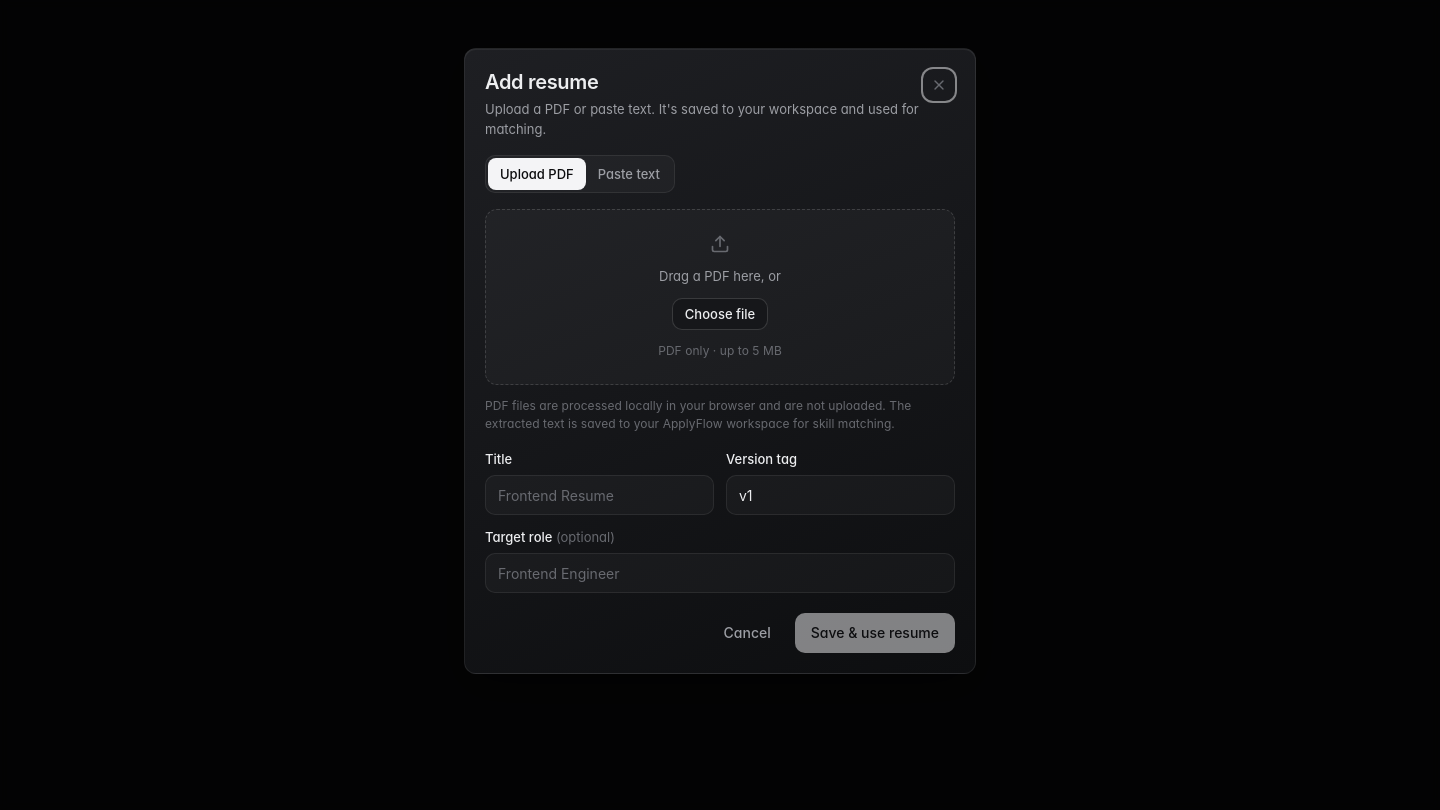
Test case: AddResumeDialog › switches between upload and paste modes
This screenshot has width=1440, height=810.
Expected: the button "Choose file" is shown, top-left (672, 298), bottom-right (768, 330)
What coordinates should you click on to do the following:
click the button "Paste text"
I would click on:
 (629, 174)
Its box is top-left (586, 158), bottom-right (672, 190).
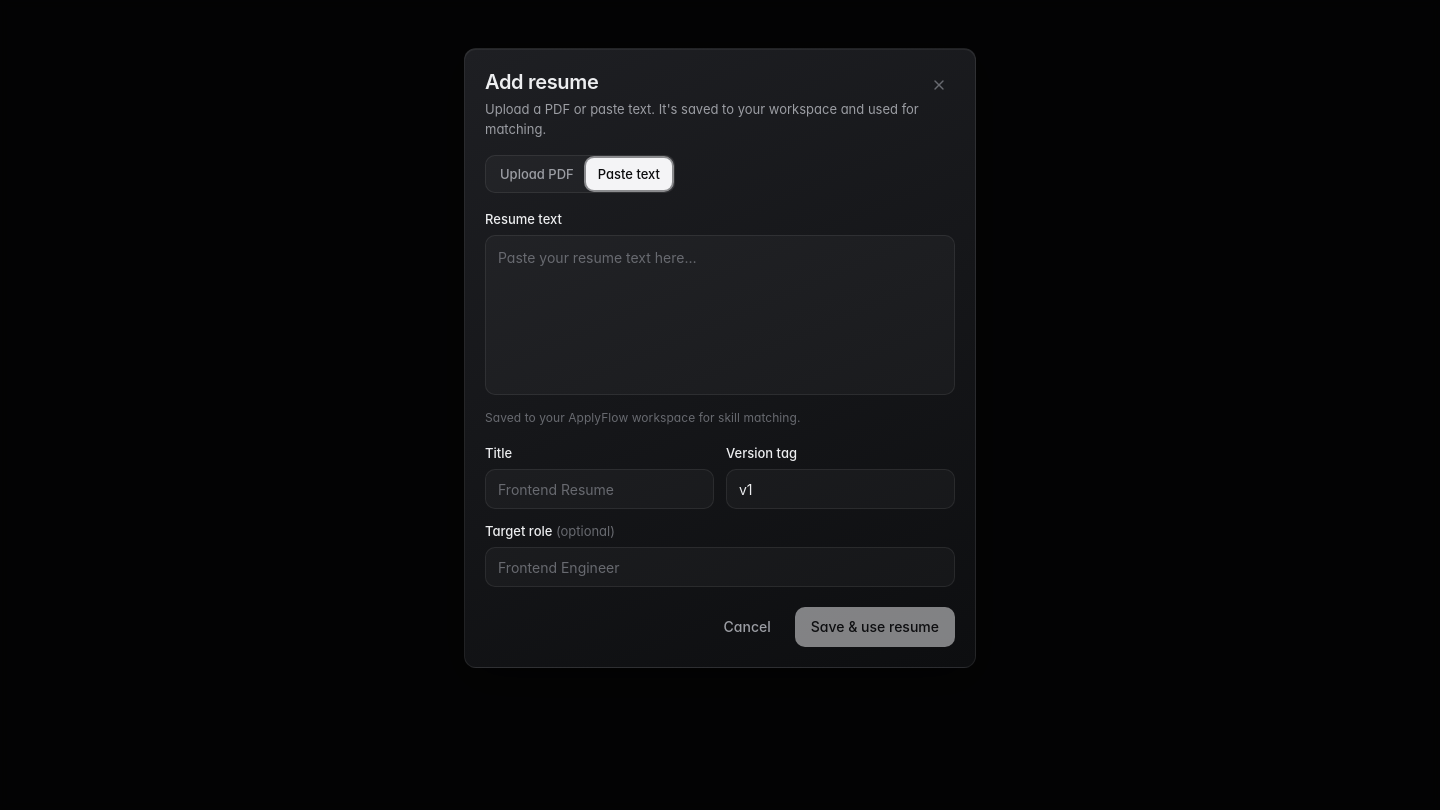
Expected: the text box labelled "Resume text" is shown, top-left (485, 235), bottom-right (955, 395)
What coordinates should you click on to do the following:
click the button "Upload PDF"
I would click on:
 (537, 174)
Its box is top-left (488, 158), bottom-right (586, 190).
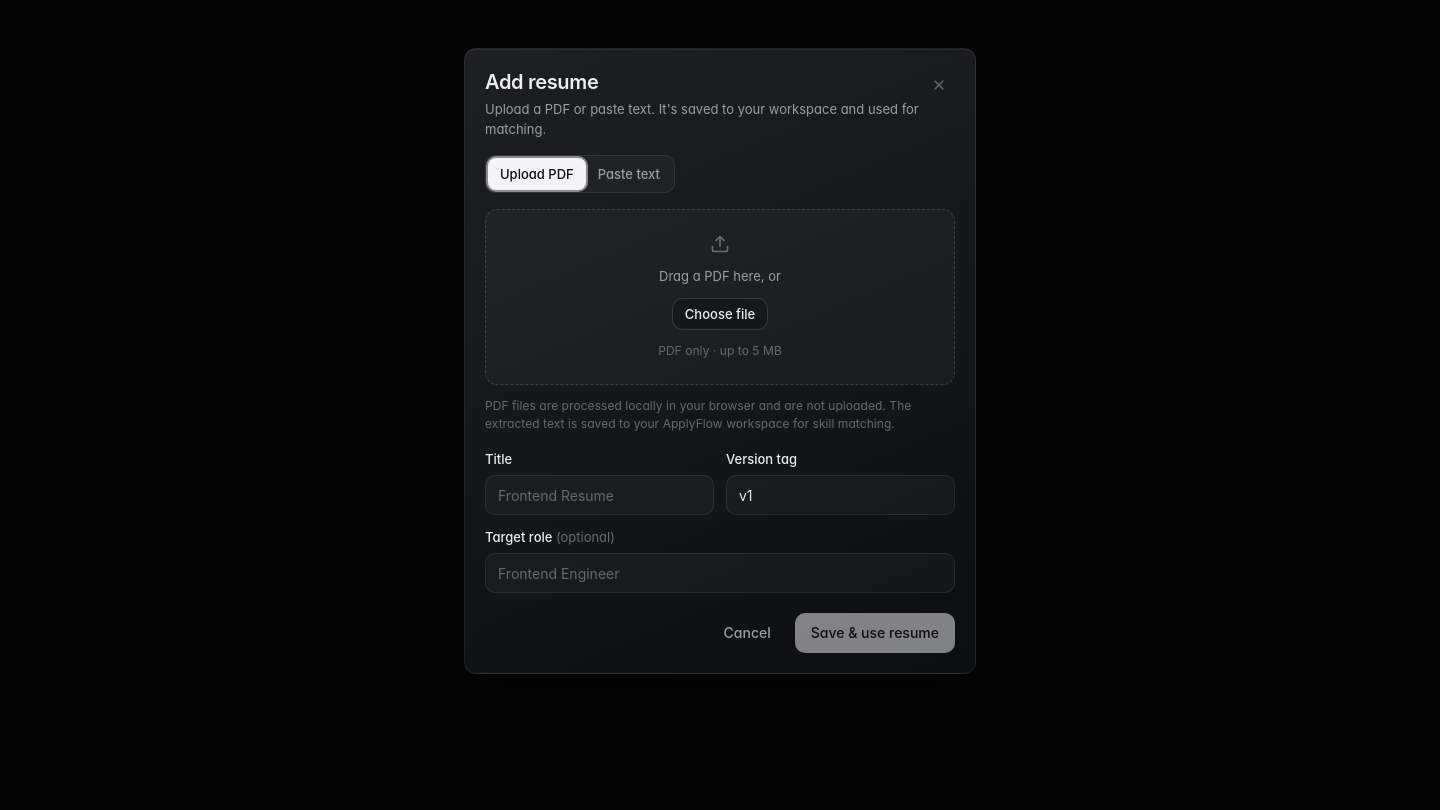
Expected: the button "Choose file" is shown, top-left (672, 298), bottom-right (768, 330)
